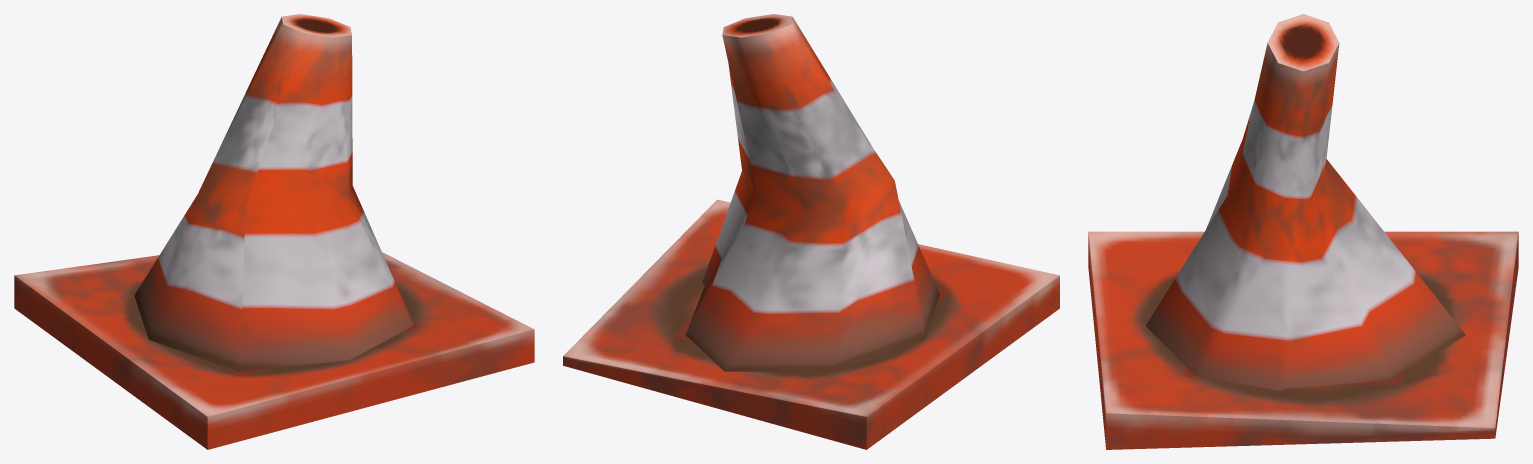
File: trafficCone01_B.fbx
The picture shows the model from 3 angles, left to right: view 1: azimuth 30°, elevation 25°; view 2: azimuth 150°, elevation 25°; view 3: azimuth 270°, elevation 25°; orthographic projection. The views are drawn at different scales.
Parts seen in each view (by area): view 1: trafficCone01_B; view 2: trafficCone01_B; view 3: trafficCone01_B.
Boxes of the visible parts, <box> form: trafficCone01_B: <box>14,14,534,449</box>; trafficCone01_B: <box>563,14,1059,449</box>; trafficCone01_B: <box>1088,14,1518,449</box>.
Size of the model in its own units: 42.48 by 37.89 by 42.48.
